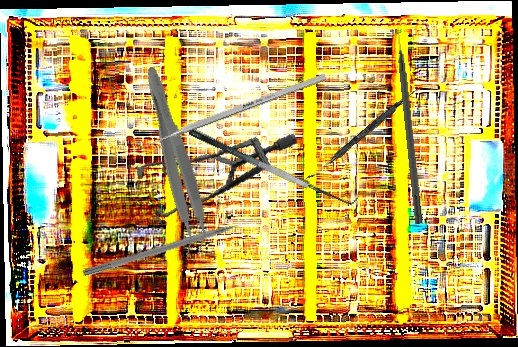Hook Surgical: (394, 26, 426, 224)
Pusher: (132, 72, 327, 154), (81, 215, 263, 279)
Spatula Surgical: (187, 113, 361, 216), (306, 83, 420, 185)
Speculum: (124, 102, 299, 250)
Tissue Forceps: (132, 63, 217, 261)
